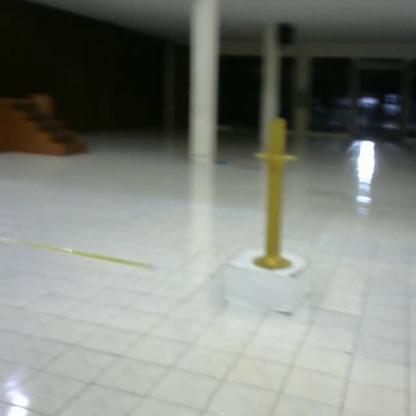pole: (251, 112, 303, 279)
